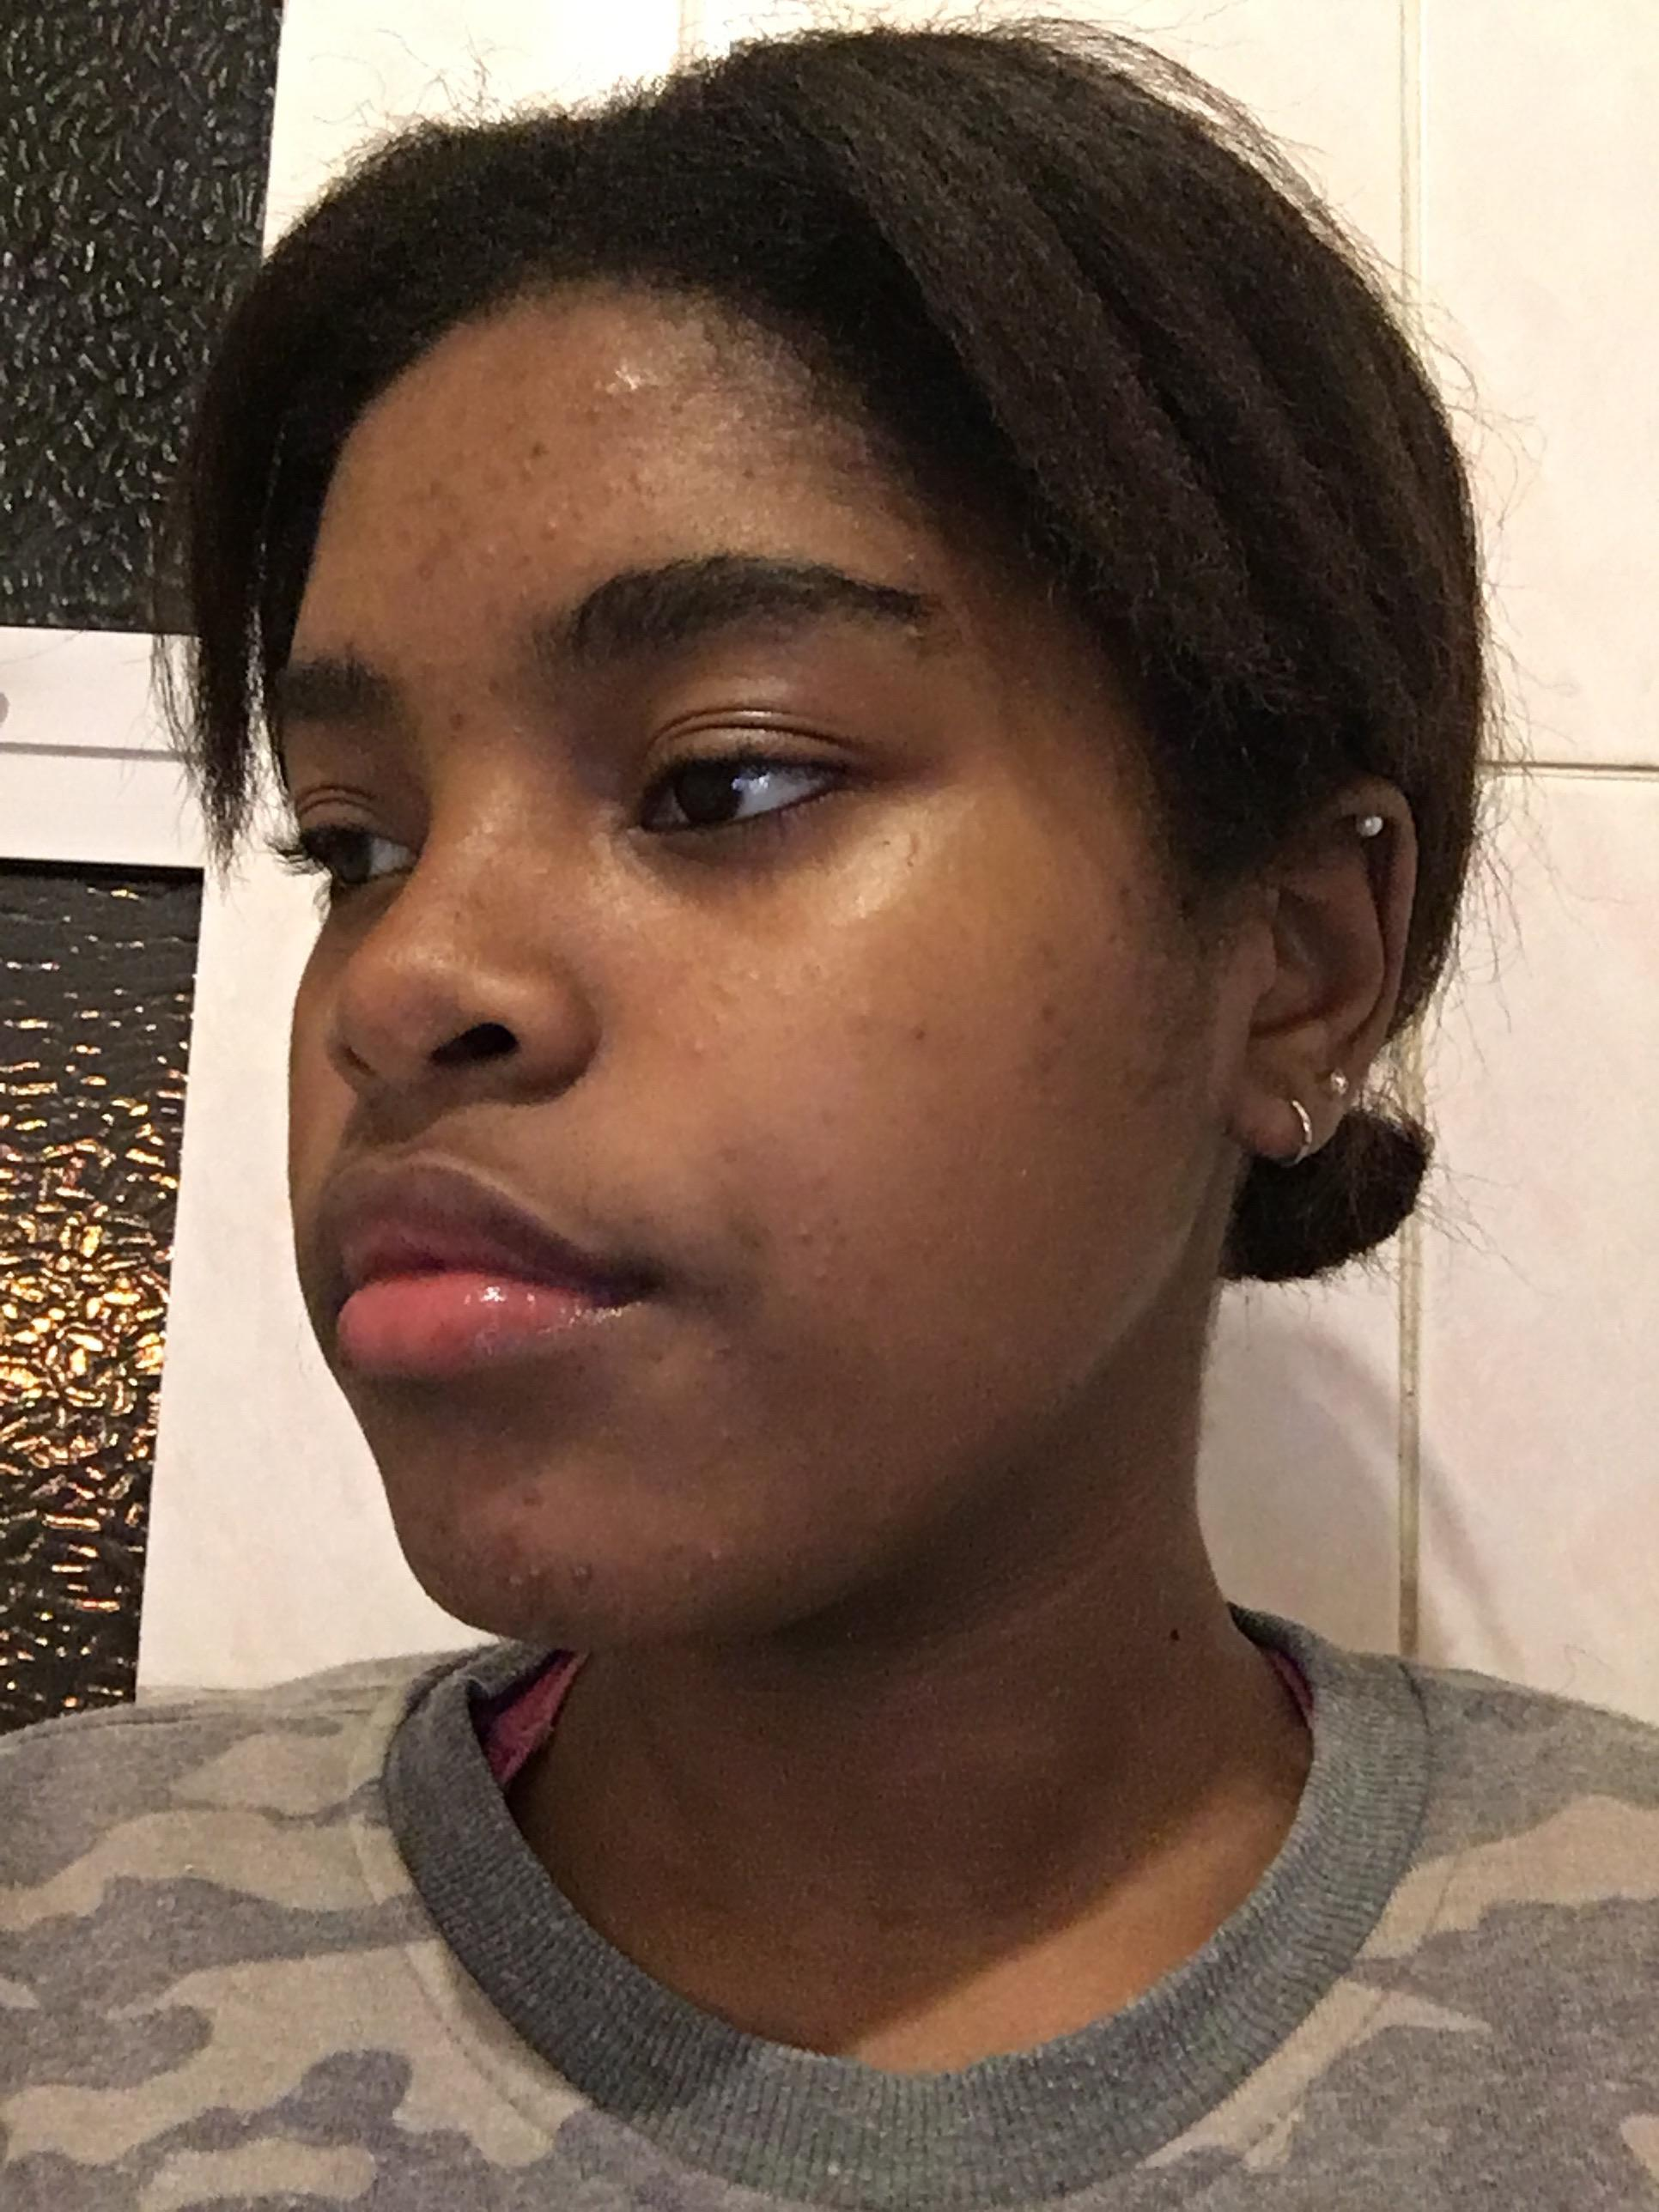Acne: (601, 460, 666, 514), (1035, 1001, 1080, 1071), (532, 488, 594, 536), (415, 547, 455, 594), (509, 437, 552, 479), (429, 475, 467, 523), (450, 540, 502, 573), (502, 1566, 551, 1597), (582, 394, 619, 432), (725, 465, 770, 495), (699, 1536, 735, 1568), (519, 1479, 545, 1519), (694, 993, 727, 1024), (906, 1015, 936, 1049), (565, 1559, 599, 1587), (803, 960, 835, 989), (444, 894, 472, 927), (695, 1341, 732, 1366), (446, 705, 476, 735), (803, 1259, 838, 1284), (500, 408, 532, 434), (415, 653, 448, 678), (671, 390, 694, 420), (680, 1038, 714, 1057), (718, 1414, 737, 1449), (737, 967, 762, 988), (796, 1226, 816, 1249), (1012, 1165, 1033, 1183)
